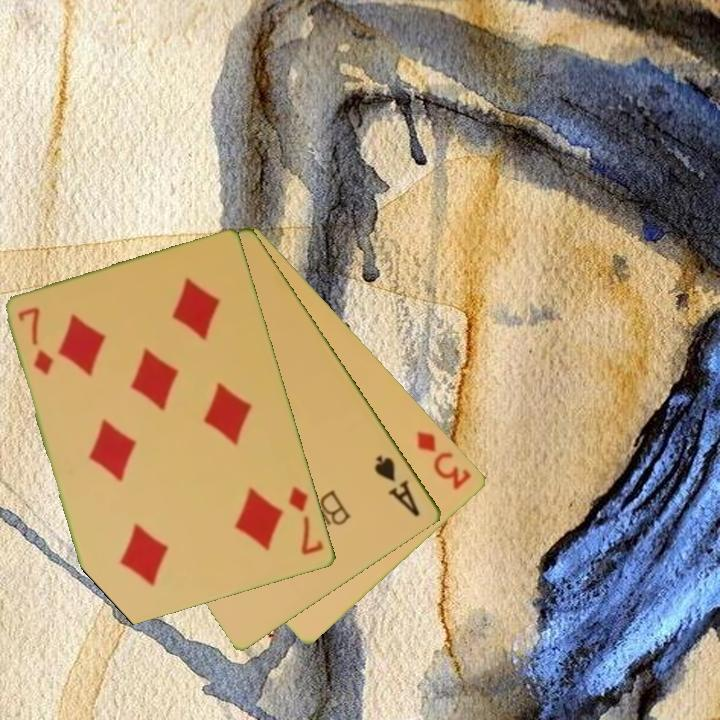3d: (413, 428, 476, 493)
7d: (285, 483, 327, 559), (14, 304, 57, 378)
As: (371, 451, 424, 520)
